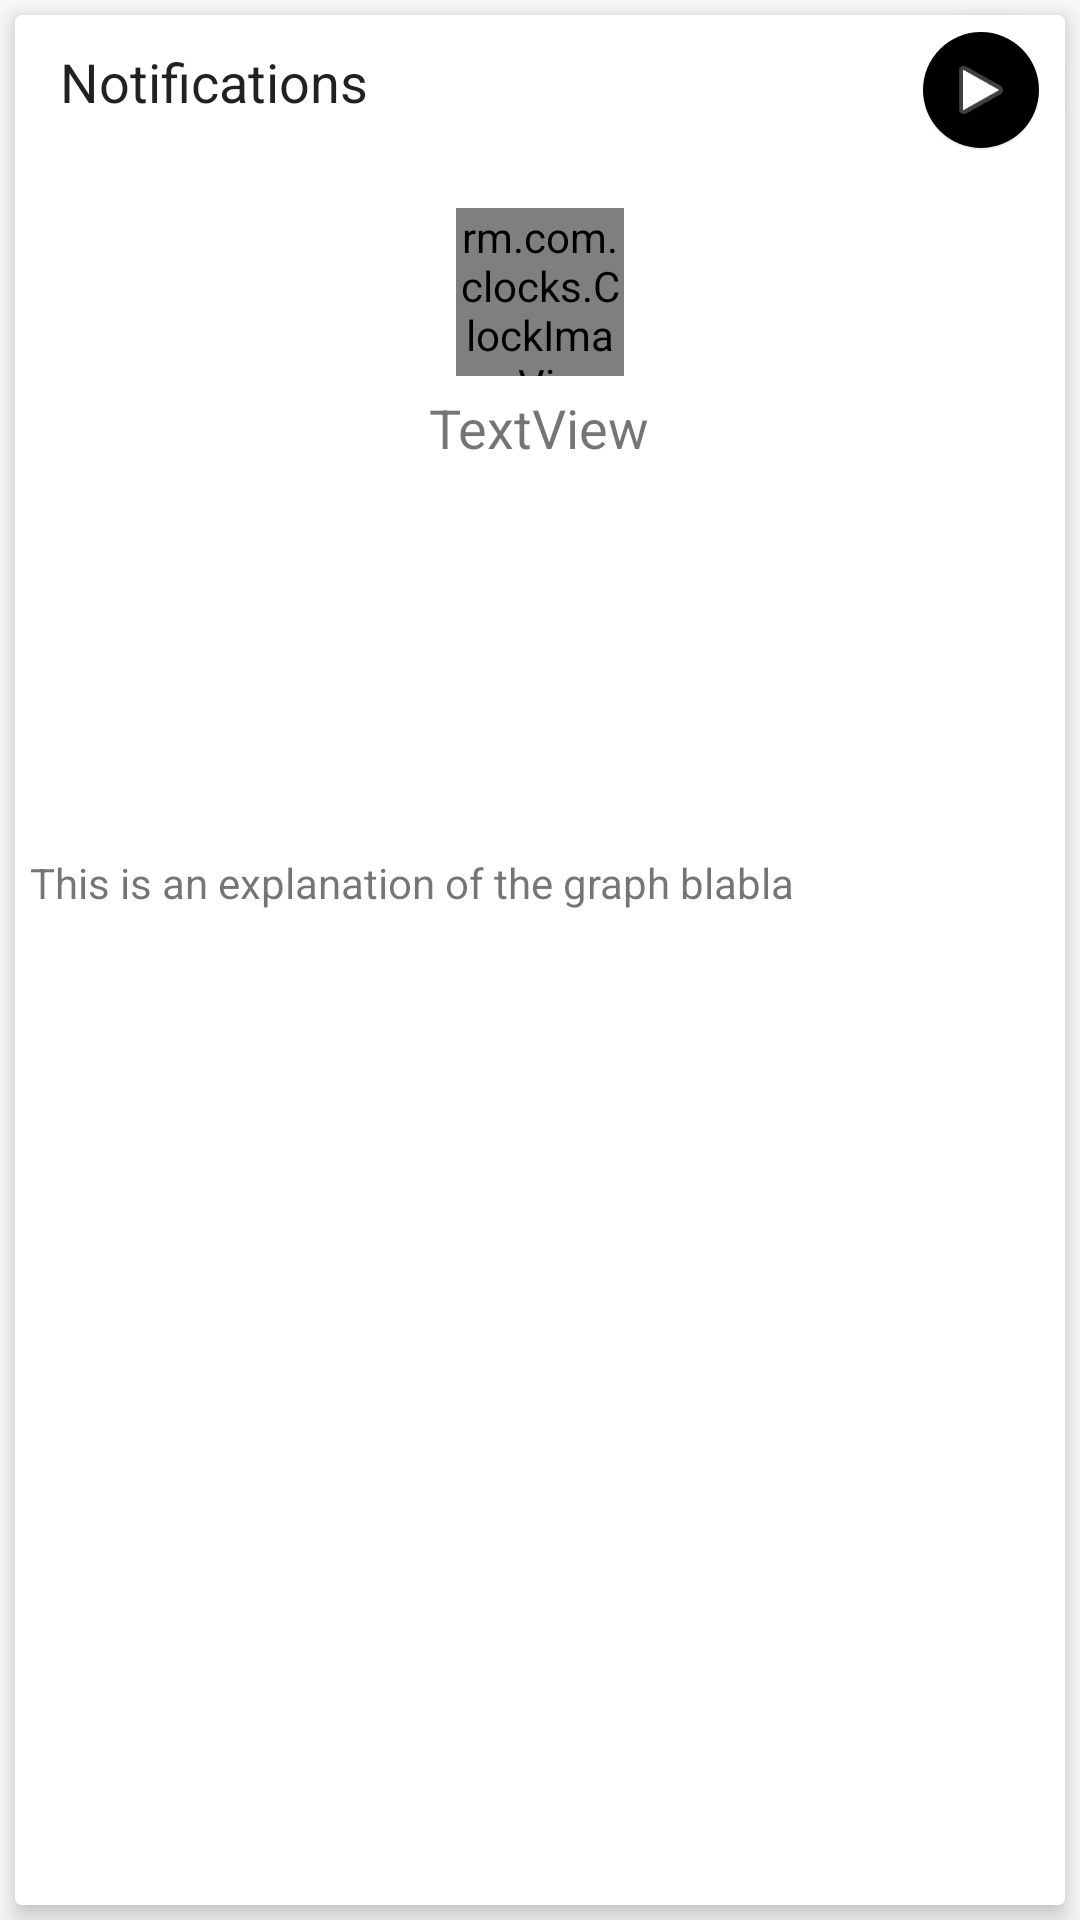

Where to tap for icons on this 1080x1920 app screen, as point (x, y):
play: point (981, 90)
